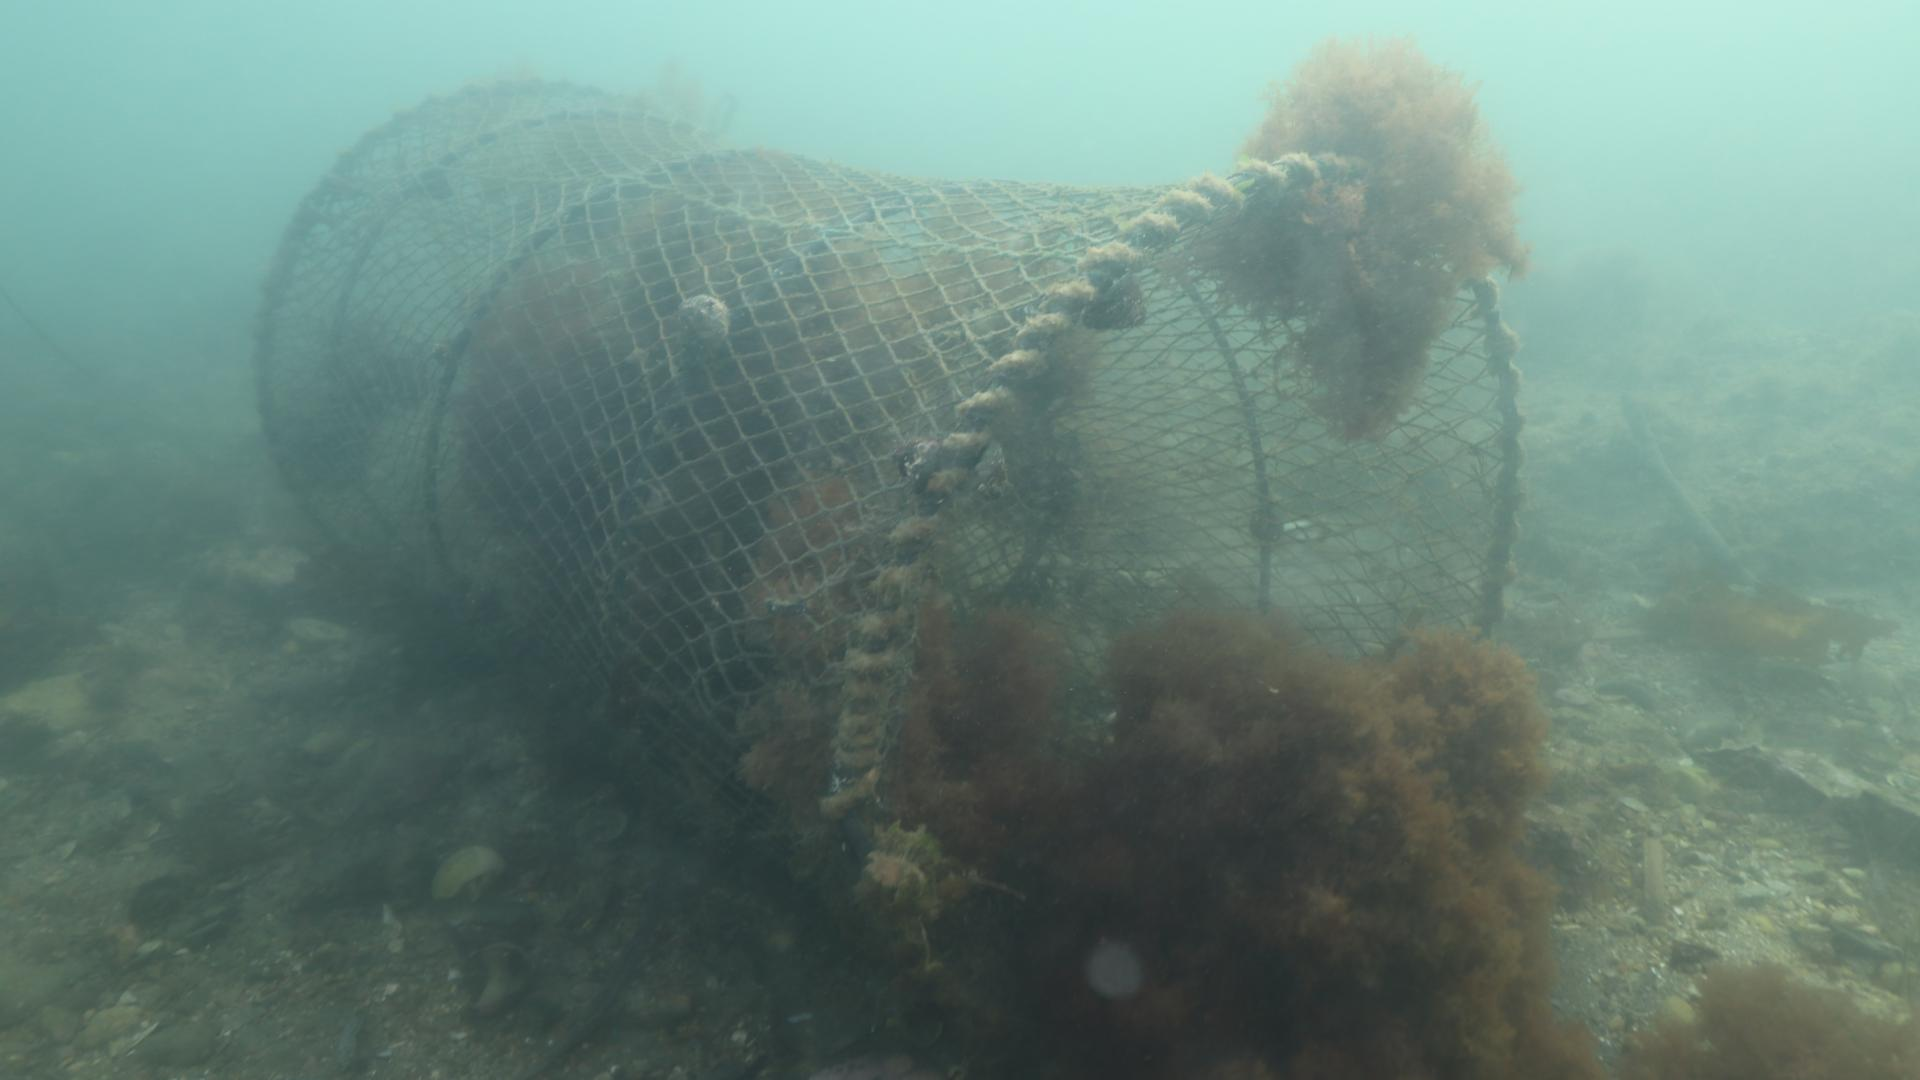spring fish trap: (249, 78, 1523, 1042)
